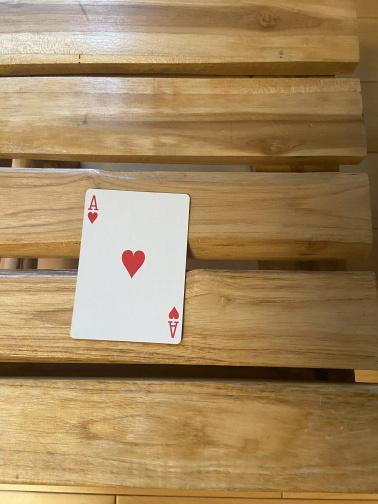ace: (68, 188, 192, 346)
